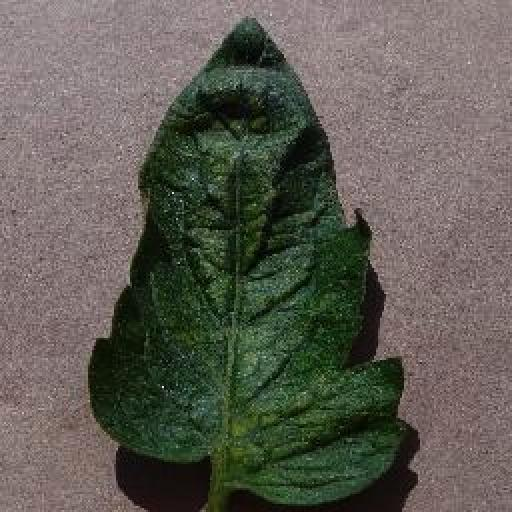disease_tomato: (88, 14, 406, 508)
